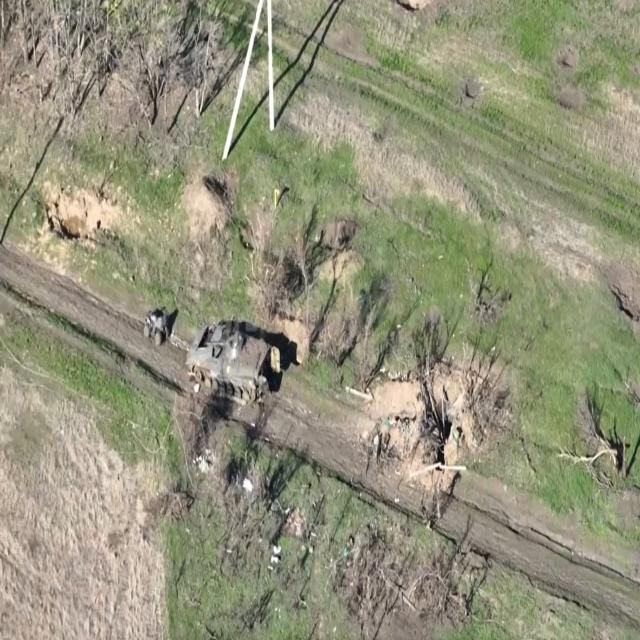AIFV: (186, 317, 283, 403)
Vehicle: (143, 306, 171, 352)
